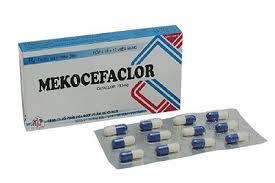Waisan: (38, 63, 154, 94)
